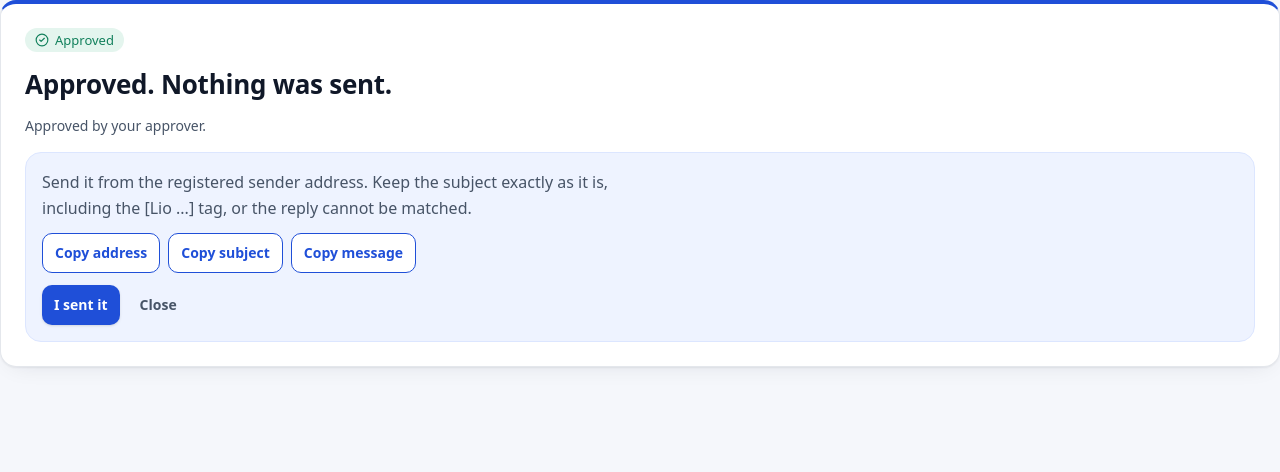
hand-off panel › mark-sent needs a name of 2+ characters and posts sent_by
Earlier steps of the test are not shown.
Later steps or results of the test are not shown.
Click the button "I sent it" at (81, 305), box x1=42 y1=285 x2=120 y2=325
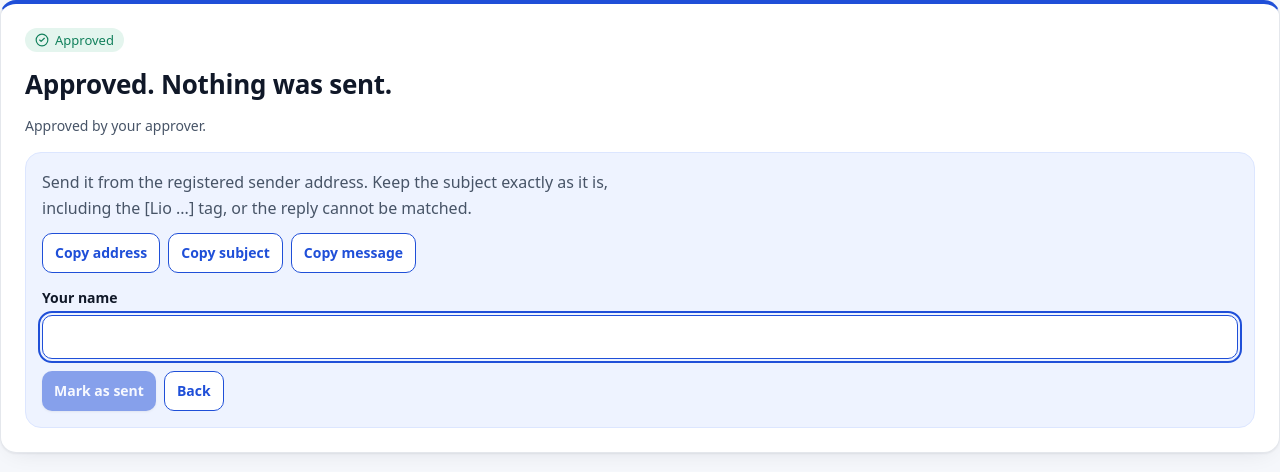
expect the button "Mark as sent" is disabled: met, box x1=42 y1=371 x2=156 y2=411
Type "A" into the field labelled "Your name" at (640, 337), box x1=42 y1=315 x2=1238 y2=359
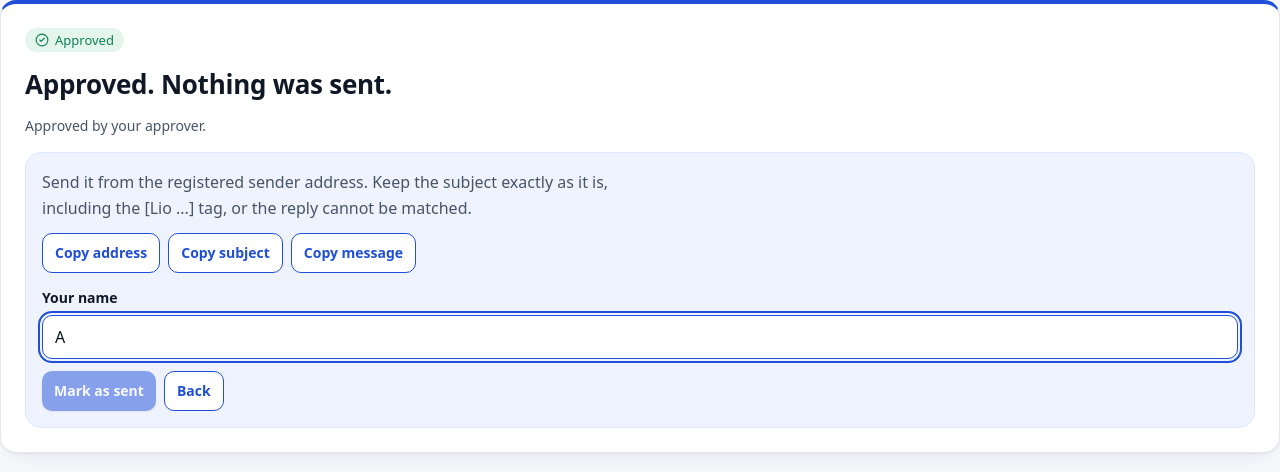
expect the button "Mark as sent" is disabled: met, box x1=42 y1=371 x2=156 y2=411
Replace the text in the field labelled "Your name" with "Ann" at (640, 337), box x1=42 y1=315 x2=1238 y2=359
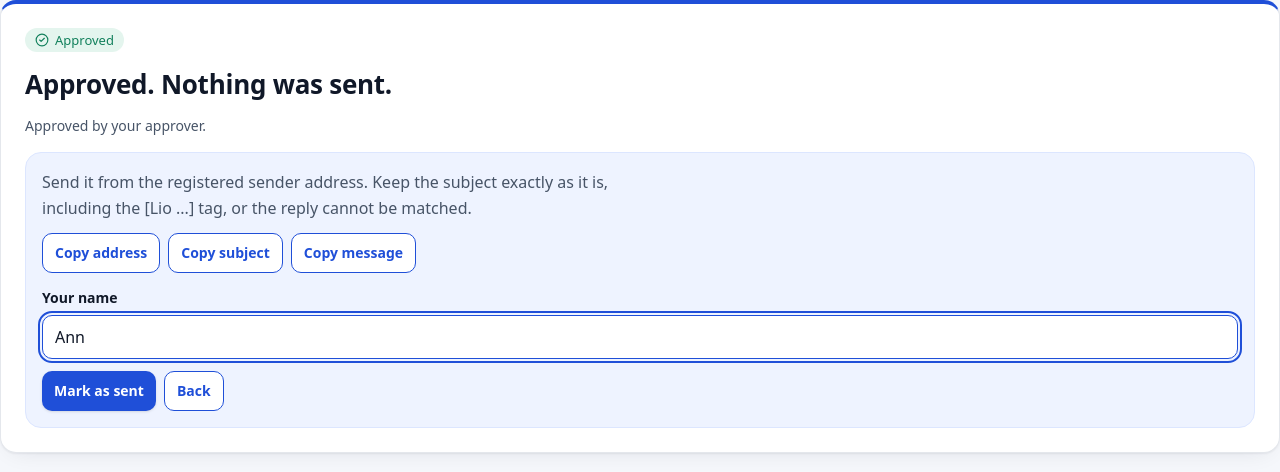
expect the button "Mark as sent" is enabled: met, box x1=42 y1=371 x2=156 y2=411
